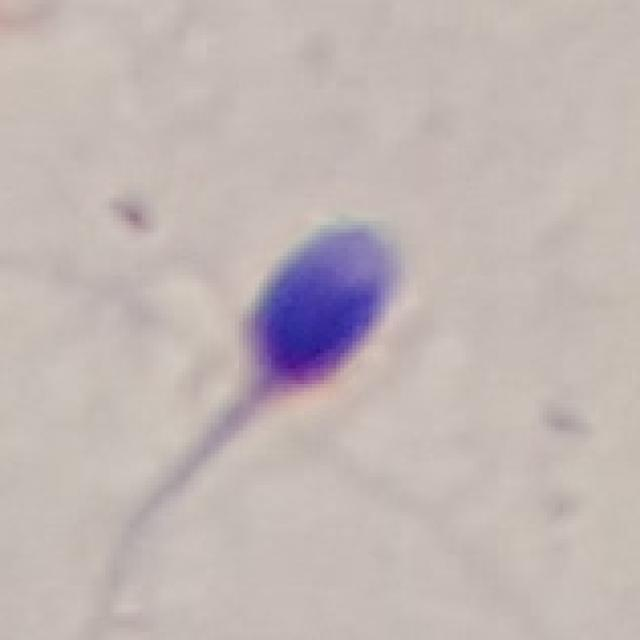normal sperm: (192, 204, 422, 479)
